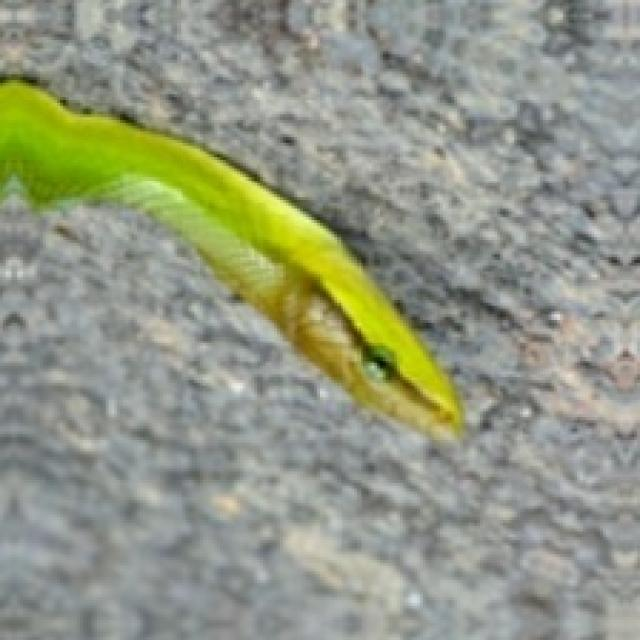red-tailed green ratsnake: (0, 80, 460, 437)
